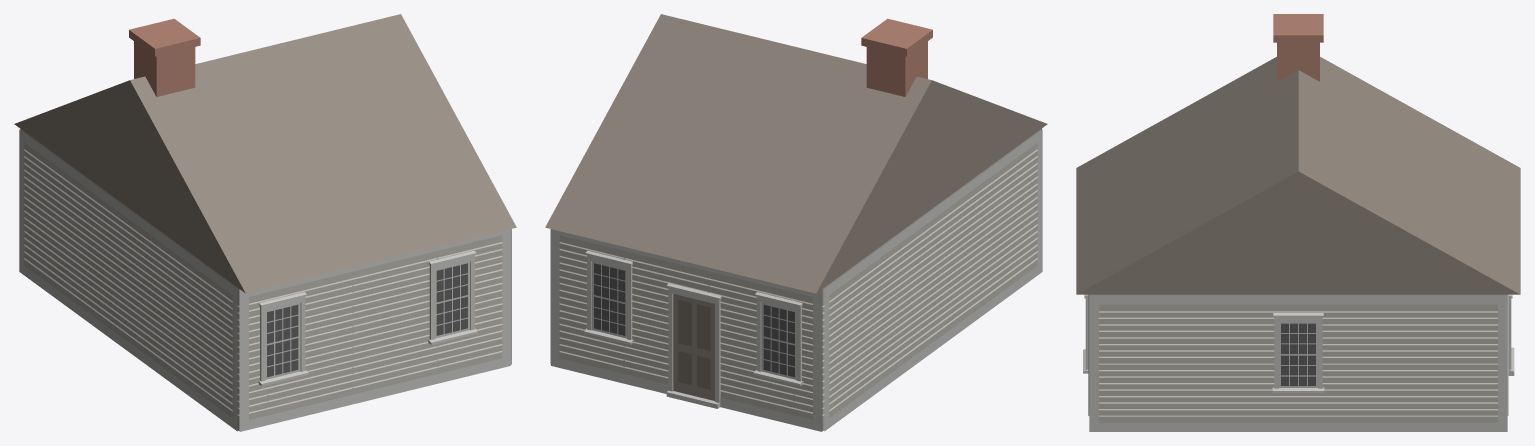
File: recon_1835_blk_south_water_lasalle_d4_02__inferred_1835.glb
3 renders of one model, left to right at view 1: azimuth 30°, elevation 25°; view 2: azimuth 150°, elevation 25°; view 3: azimuth 270°, elevation 25°, orthographic. The views are drawn at different scales.
Visible parts, largest first — view 1: recon_1835_blk_south_water_lasalle_d4_02__inferred_1835; view 2: recon_1835_blk_south_water_lasalle_d4_02__inferred_1835; view 3: recon_1835_blk_south_water_lasalle_d4_02__inferred_1835.
Boxes of the visible parts, x1,y1,x2,y2 form: recon_1835_blk_south_water_lasalle_d4_02__inferred_1835: (14,14,516,431); recon_1835_blk_south_water_lasalle_d4_02__inferred_1835: (545,14,1047,431); recon_1835_blk_south_water_lasalle_d4_02__inferred_1835: (1076,14,1520,431).
Bounding box in the file's own units: 6 × 6.37 × 8.66.
